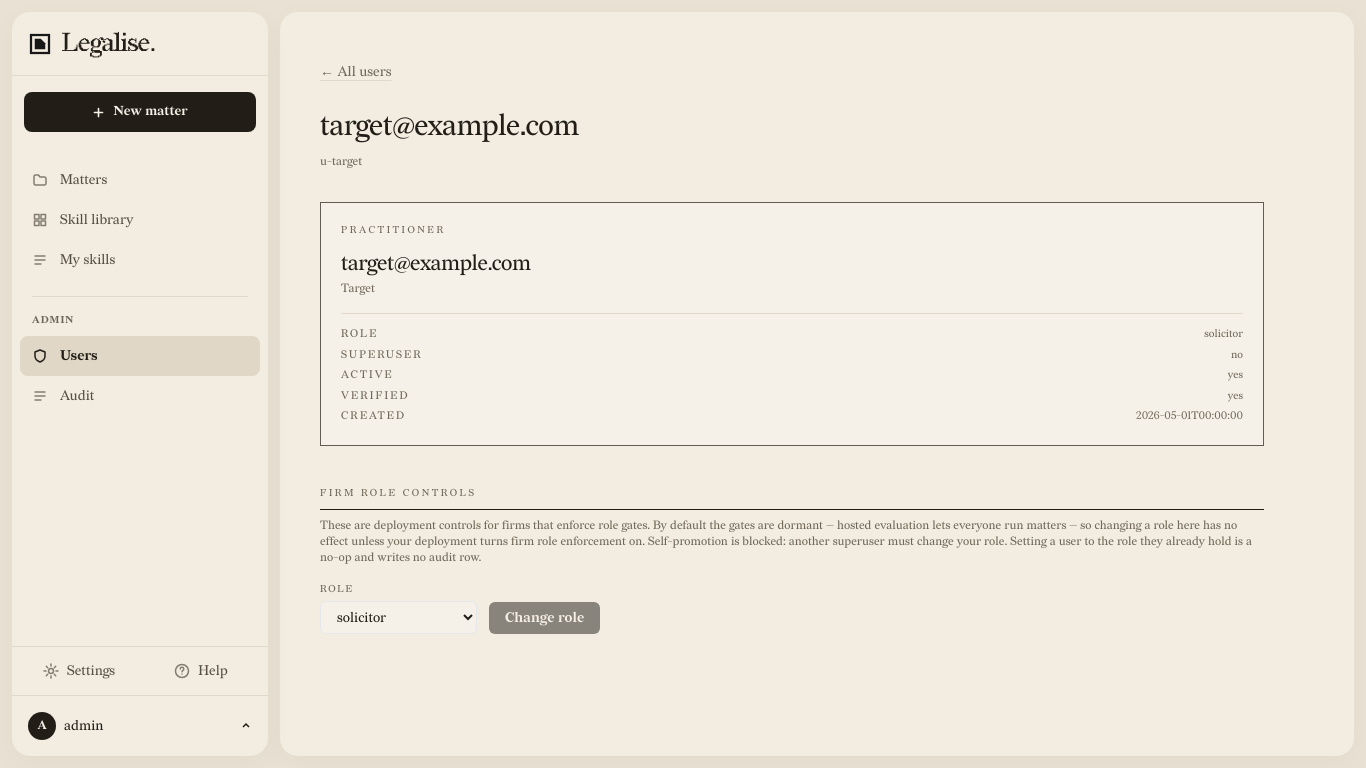
Test case: AdminUserDetail — admin viewer, happy path › POSTs exactly {role} (no reason field) and surfaces the substrate audit-row note
Step 1. Select "qualified_solicitor" in the dropdown with test id "role-select" → (398, 617), box [320,600,477,634]
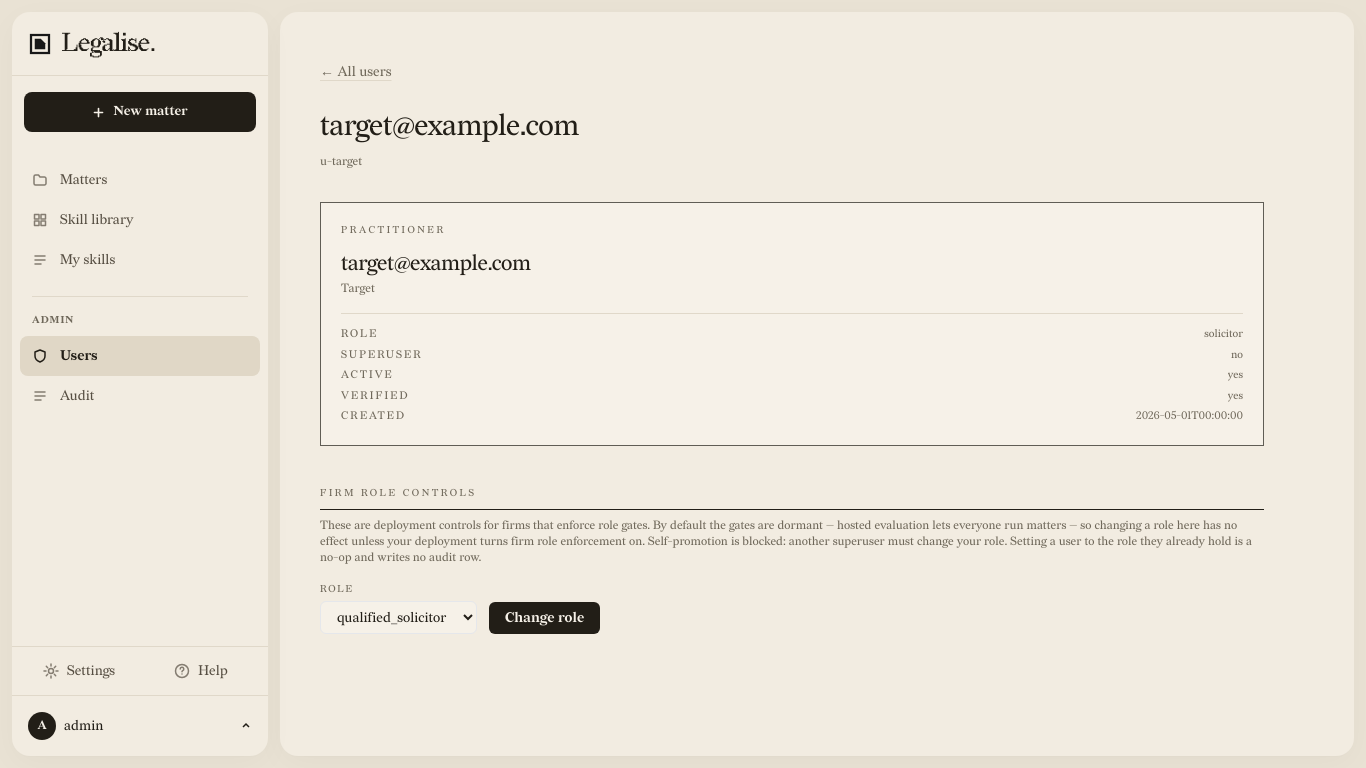
Step 2. Click the button with test id "role-submit" → click(545, 618), box [489,602,600,634]
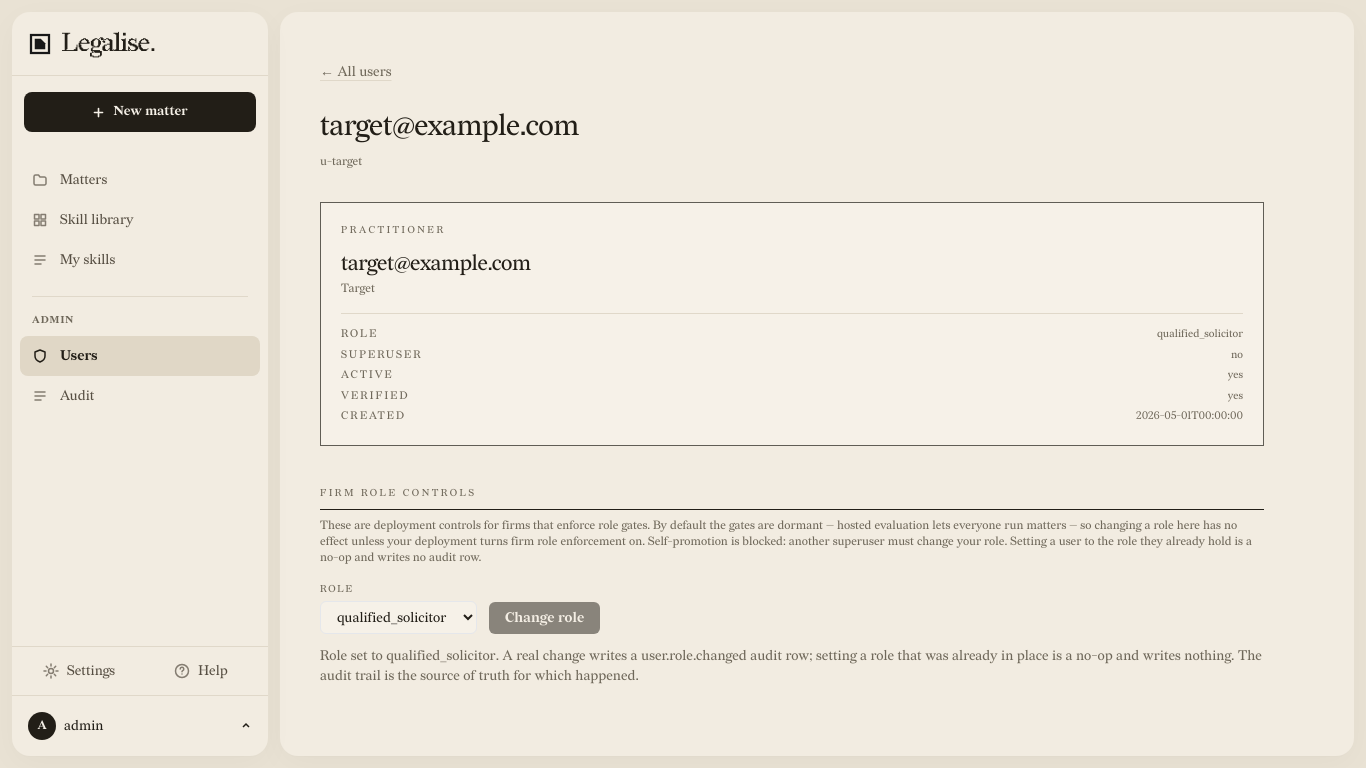
Now the text "user.role.changed" is shown, box [641,646,747,664]
